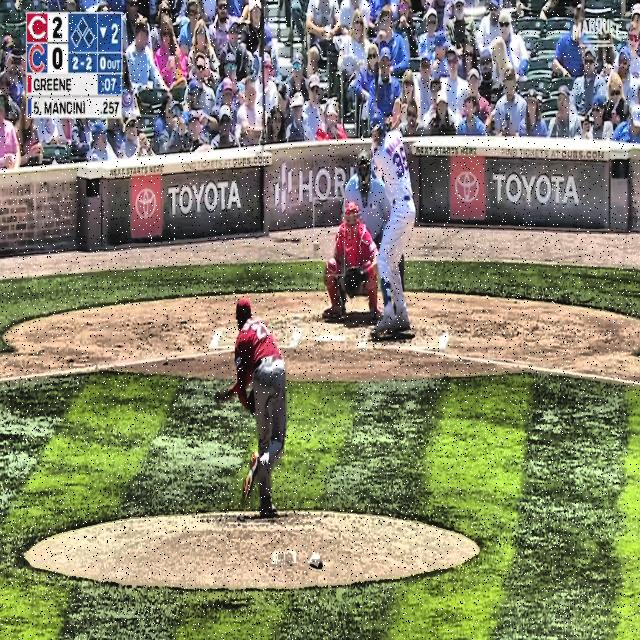baseball: (312, 238, 320, 252)
